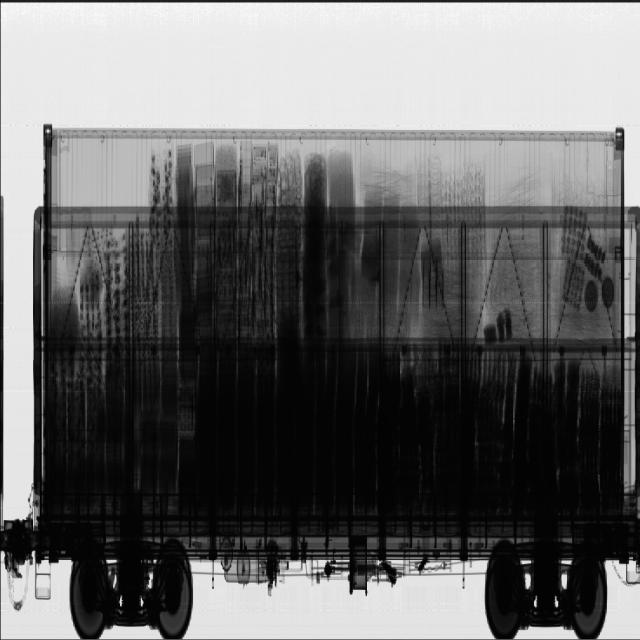table ware: (221, 128, 616, 462)
